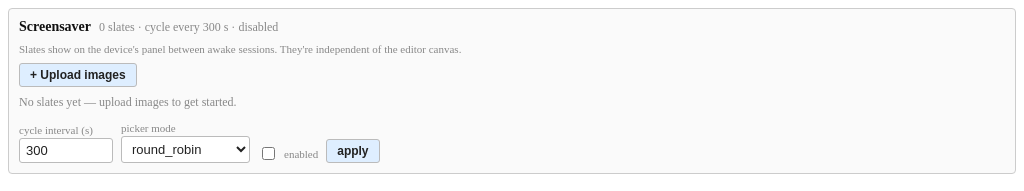
ScreensaverPanel — cycle config › clamps the cycle interval to the manifest bounds on blur
This screenshot has width=1024, height=191.
Replace the text in the number field named "cycle interval seconds" with "10" at (66, 150), box [19, 138, 113, 163]
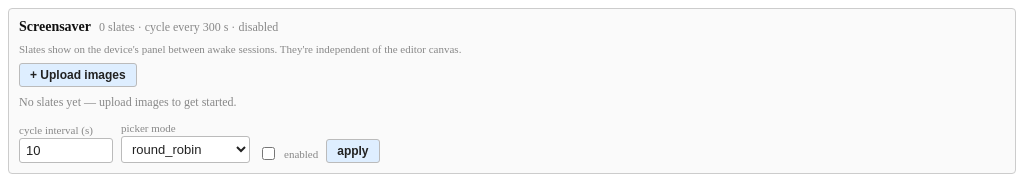
Leave the number field named "cycle interval seconds", box [19, 138, 113, 163]
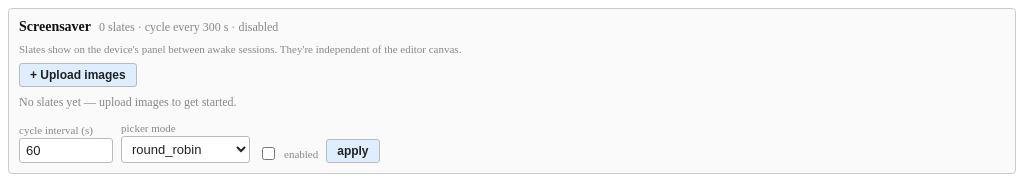
Expected: the number field named "cycle interval seconds" holds "60"
Replace the text in the number field named "cycle interval seconds" with "9999999" at (66, 150), box [19, 138, 113, 163]
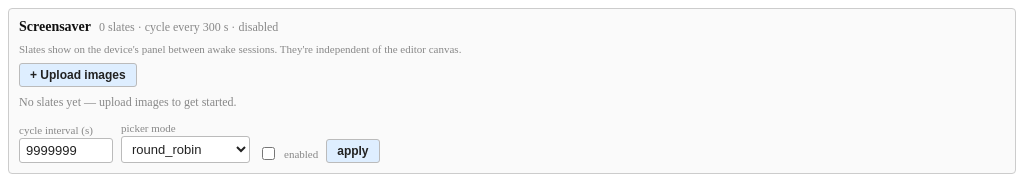
Leave the number field named "cycle interval seconds", box [19, 138, 113, 163]
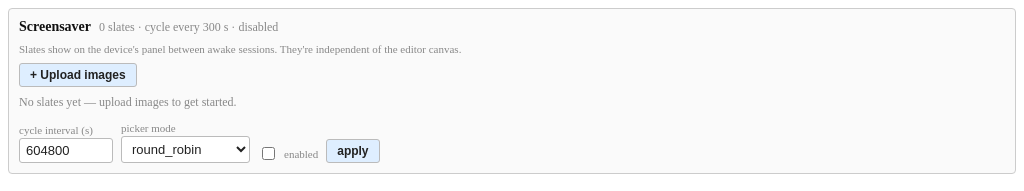
Expected: the number field named "cycle interval seconds" holds "604800", [19, 138, 113, 163]
